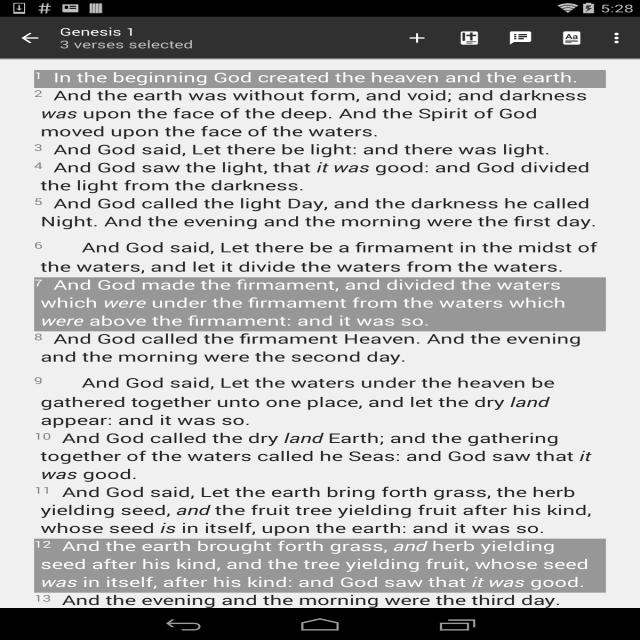Button: (111, 17, 292, 59)
ImageButton: (9, 17, 68, 59), (68, 17, 120, 59), (284, 17, 335, 59)
ImageView: (0, 22, 60, 54), (597, 22, 640, 54)
TextView: (34, 367, 606, 431), (34, 88, 606, 142), (34, 278, 606, 332), (34, 430, 606, 484), (34, 484, 606, 538), (34, 538, 606, 592), (34, 232, 606, 277), (34, 160, 606, 196), (34, 196, 606, 232), (34, 332, 606, 368), (34, 70, 606, 88), (34, 142, 606, 160), (34, 592, 606, 610), (504, 17, 580, 59), (60, 37, 193, 51), (390, 22, 444, 54), (580, 22, 632, 54), (444, 22, 495, 54), (495, 22, 546, 54), (546, 22, 597, 54), (60, 24, 135, 39), (34, 232, 43, 251), (34, 368, 43, 387)
